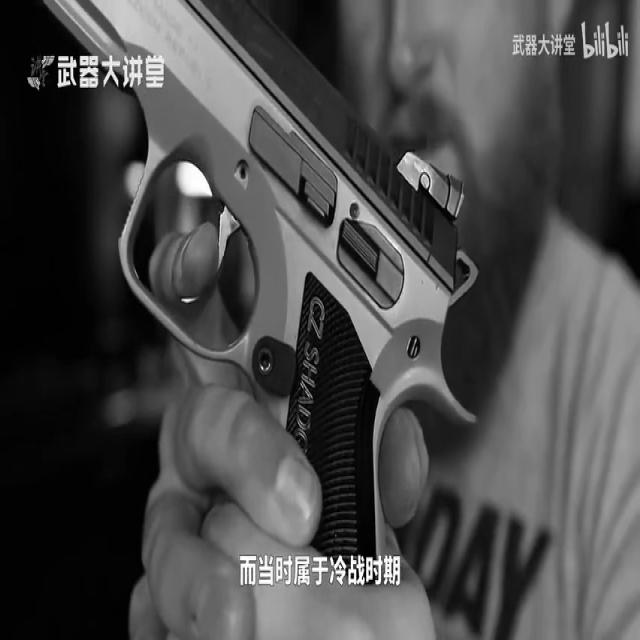Hand-Gun: (52, 0, 485, 611)
